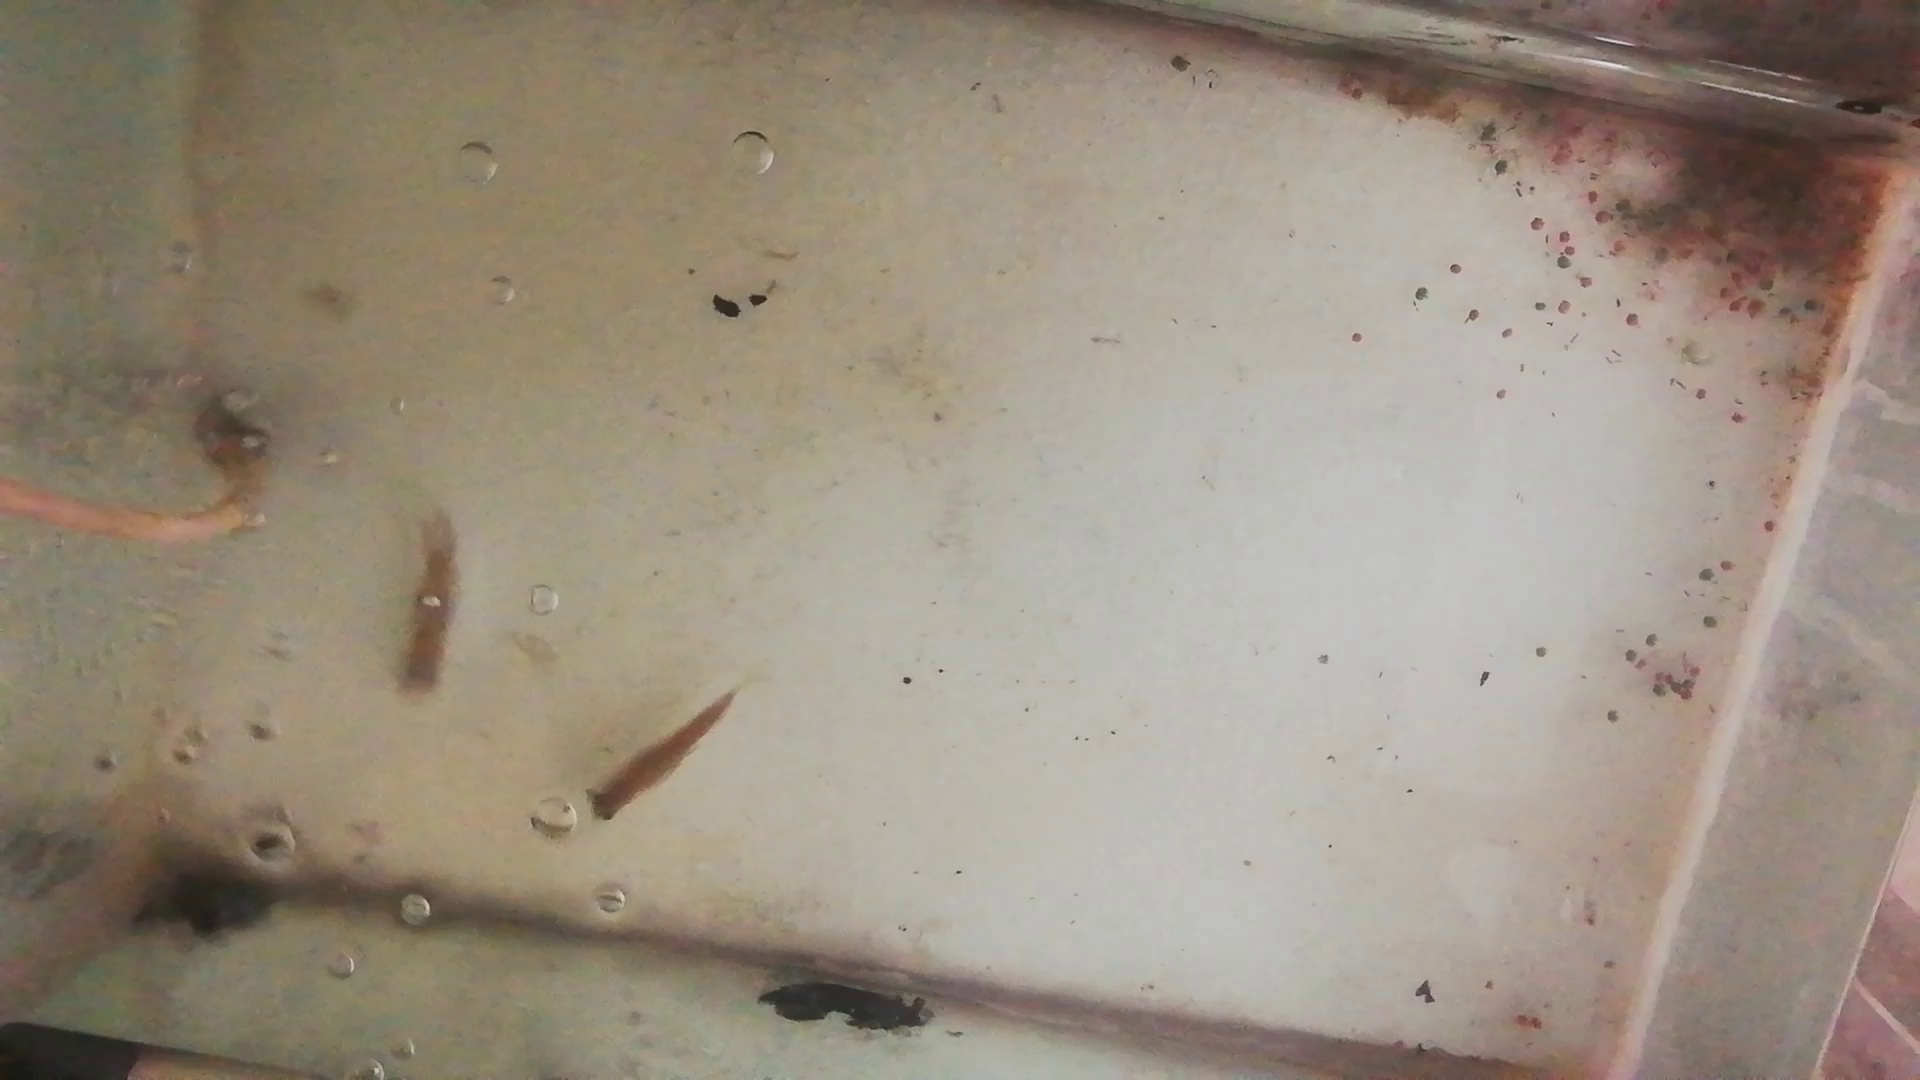fish: (583, 687, 742, 825), (398, 506, 462, 699)
